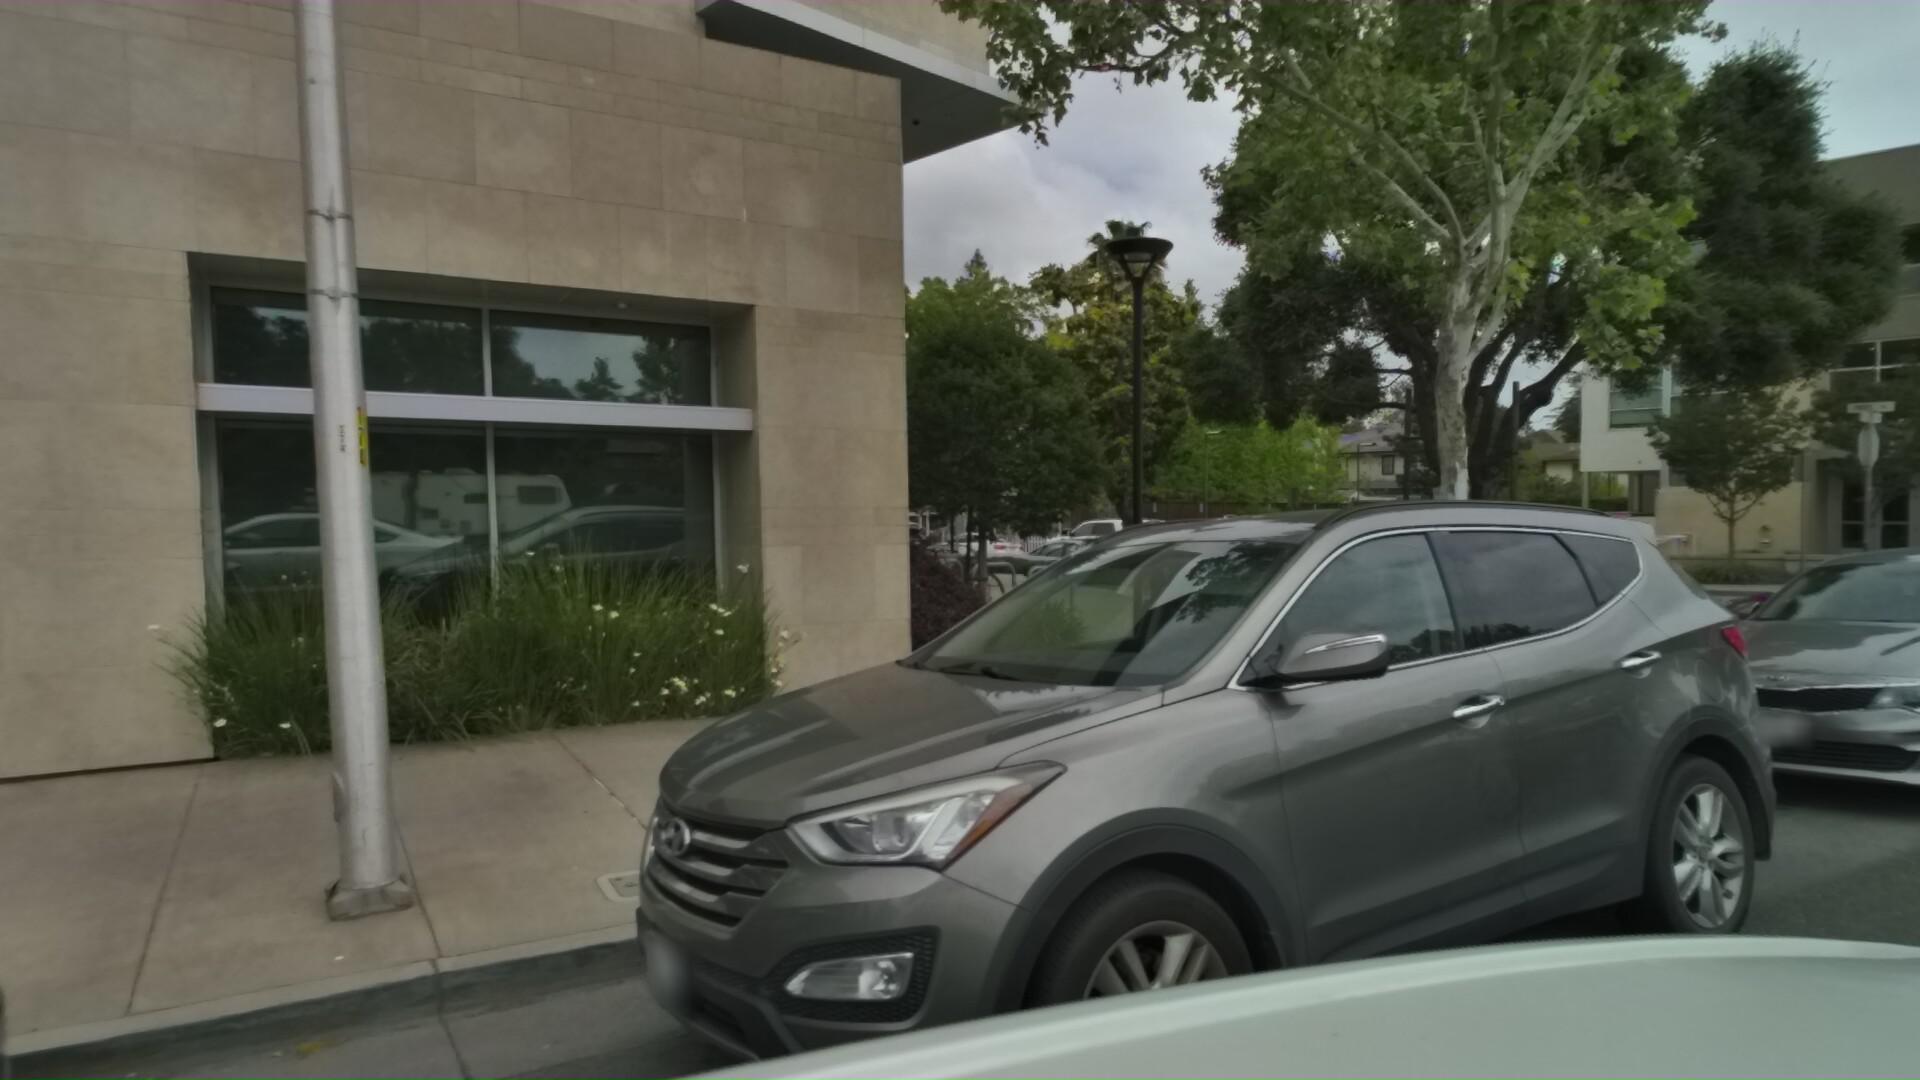bicycle: (938, 541, 1058, 632)
car: (695, 493, 1920, 1080), (1633, 516, 1920, 865), (1025, 527, 1207, 597), (1050, 508, 1197, 572), (1174, 506, 1296, 555), (934, 520, 1042, 564), (1153, 518, 1262, 560)
